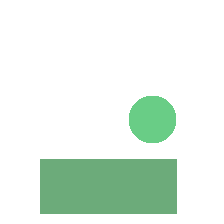circle: (129, 96, 175, 142)
rectangle: (40, 159, 176, 213)
